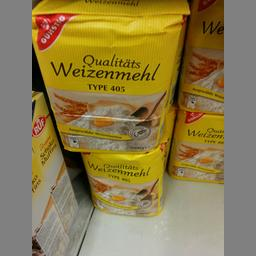flour: (31, 0, 190, 152), (76, 150, 166, 216), (169, 108, 222, 182)
